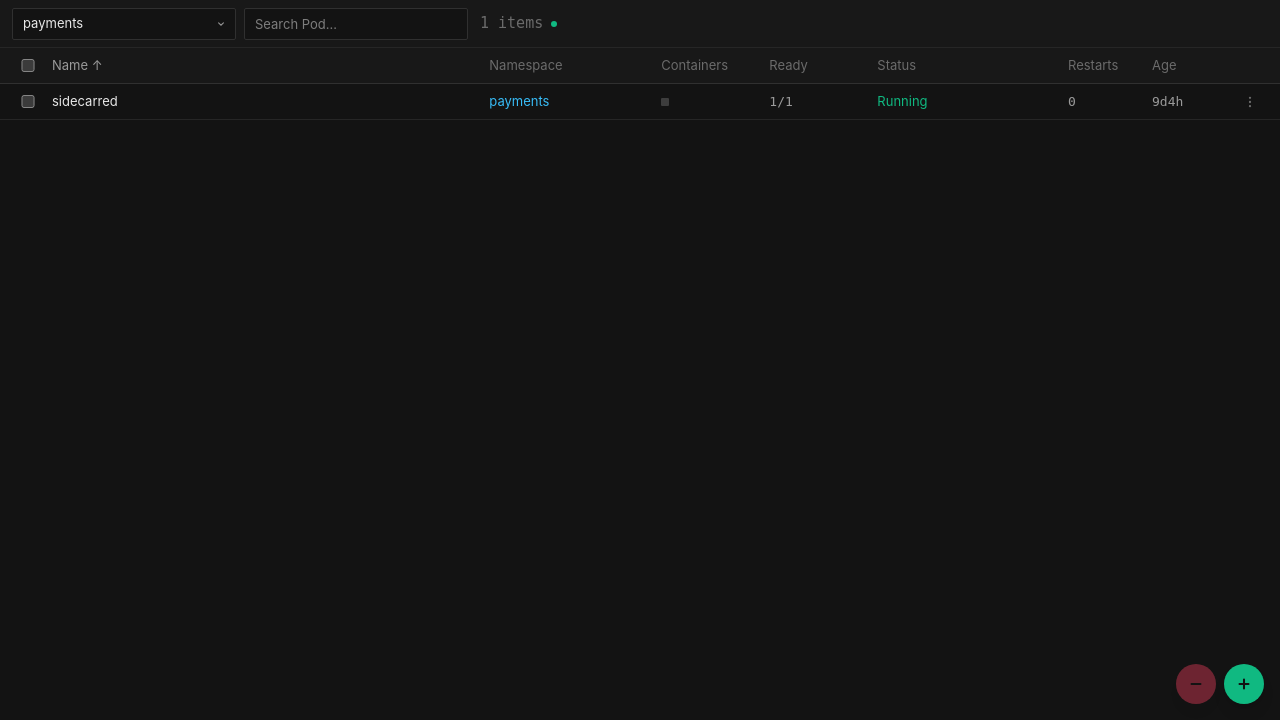
Test: container pips › summarises the container under the pointer
The image size is (1280, 720).
Hover over the picture named "istio-init" at {"x": 665, "y": 102}, box [661, 98, 669, 106]
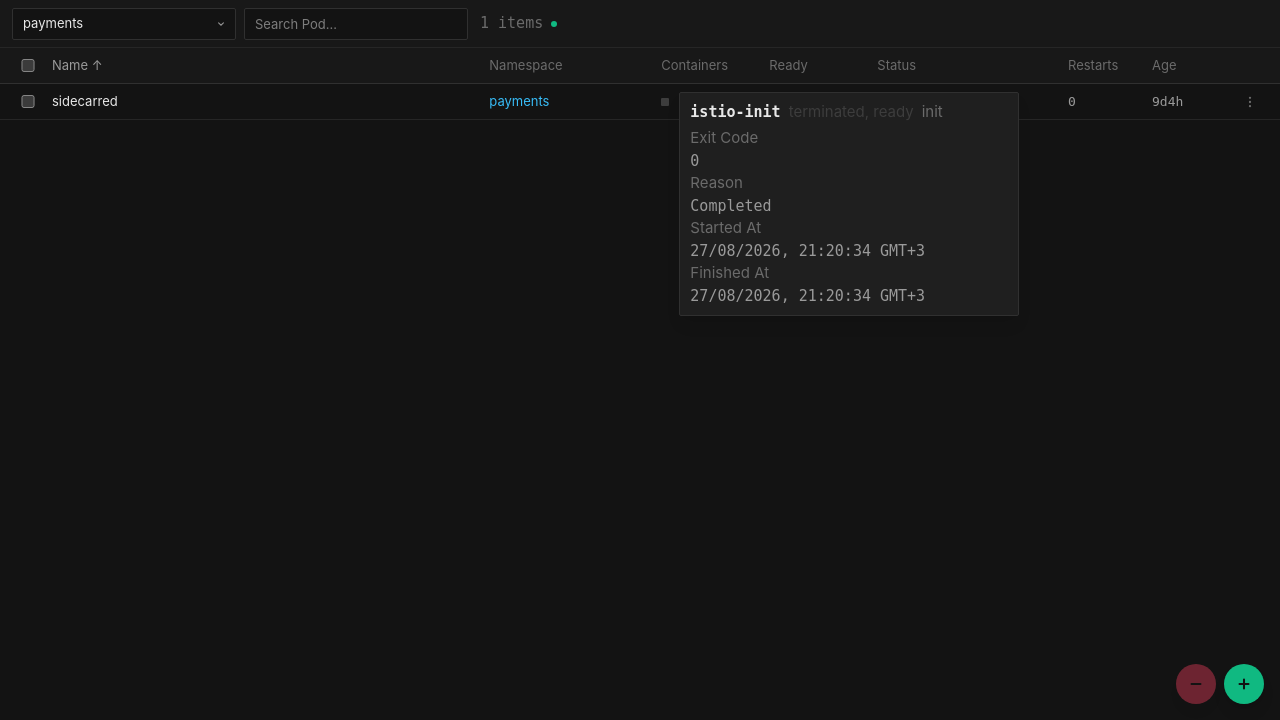
Now the tooltip shows "istio-init", box [690, 102, 781, 120]
Now the tooltip shows "terminated, ready", box [679, 92, 1019, 316]
Now the tooltip shows "Exit Code", box [690, 128, 758, 147]
Move the pointer off the picture named "istio-init", box [661, 98, 669, 106]
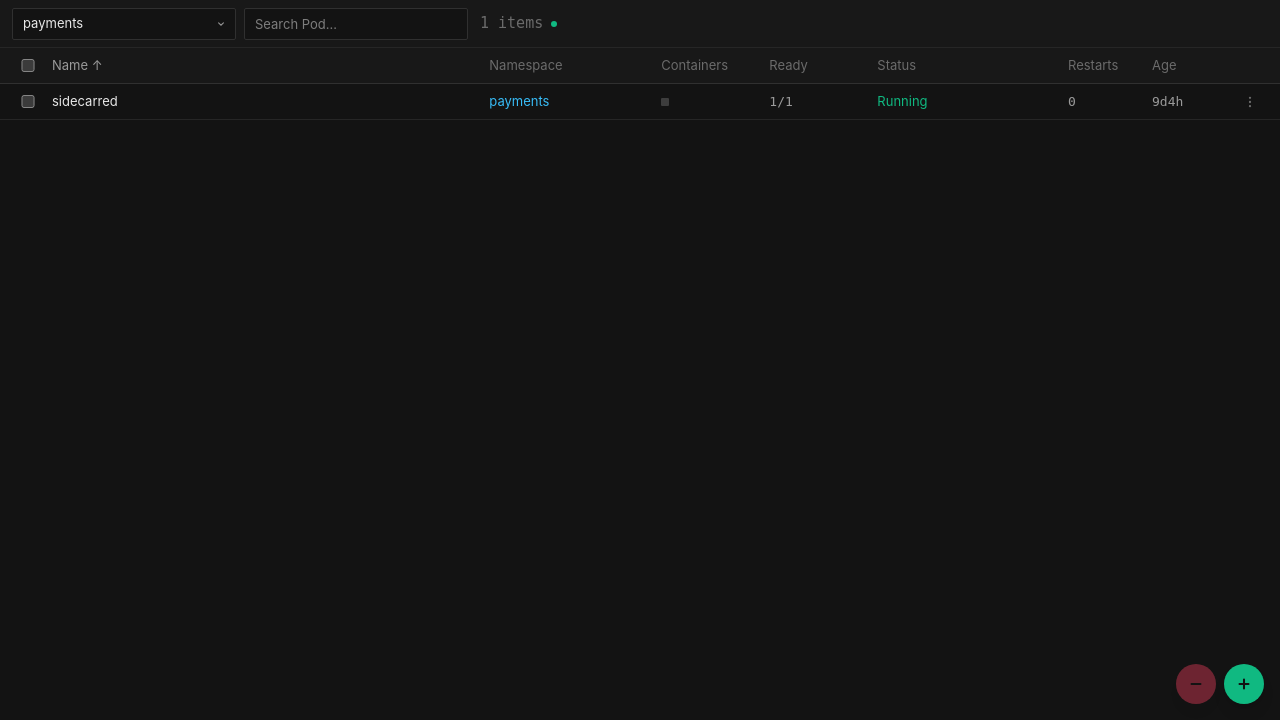
Now the tooltip is gone
